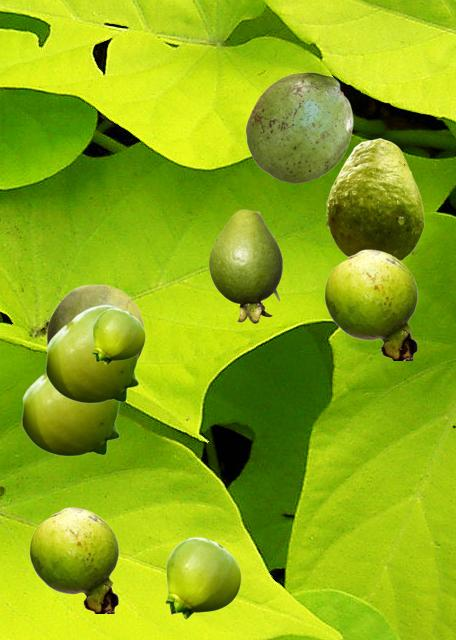guava: (325, 138, 423, 260), (245, 72, 352, 182), (324, 249, 417, 359), (29, 507, 118, 612), (45, 304, 138, 402), (209, 209, 281, 322), (21, 373, 119, 455), (46, 284, 144, 358), (165, 537, 240, 618), (92, 308, 144, 364)
